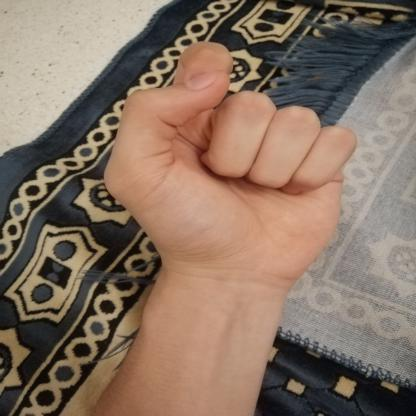FAA: (82, 28, 372, 302)
